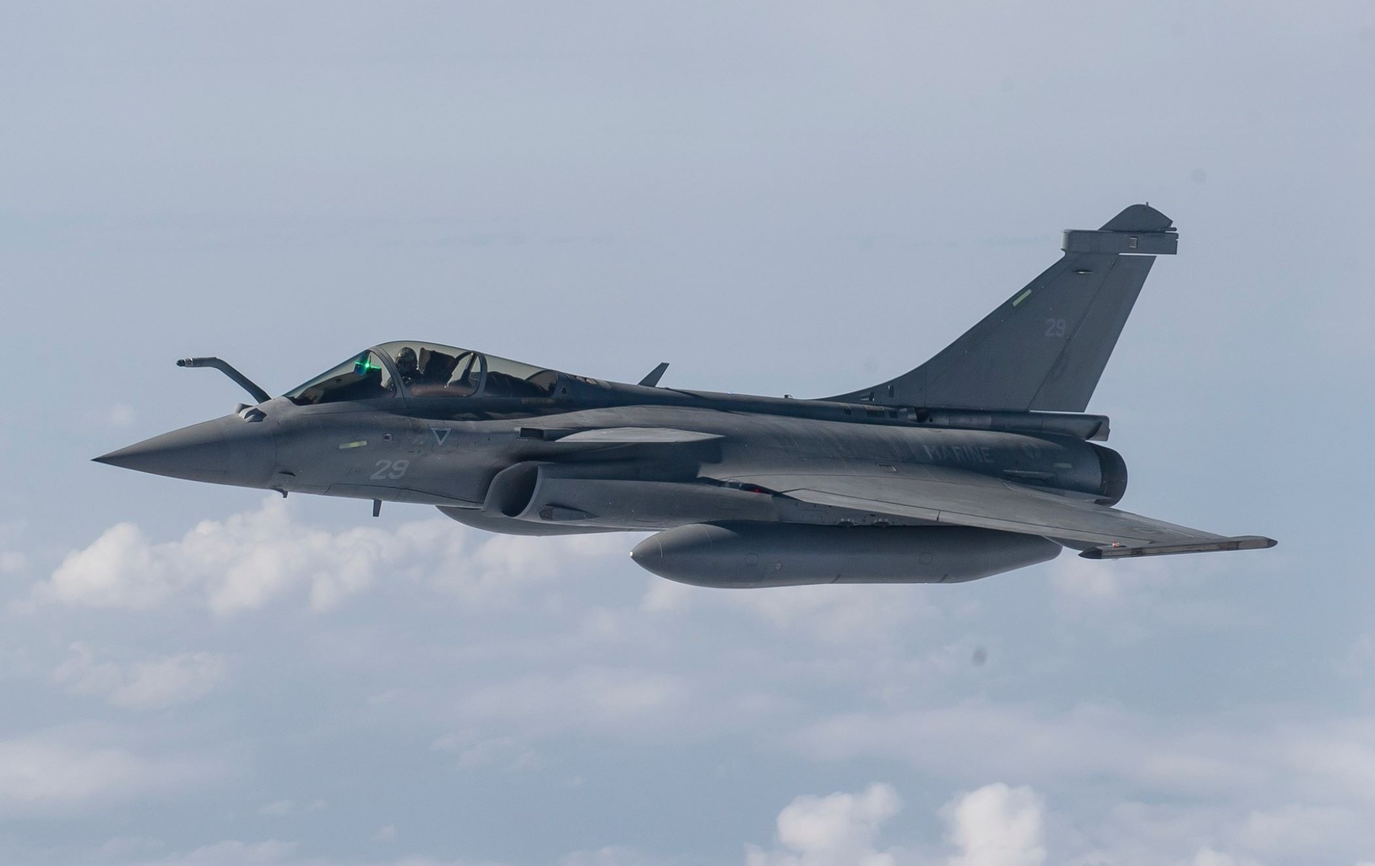Rafale: (86, 201, 1287, 597)
